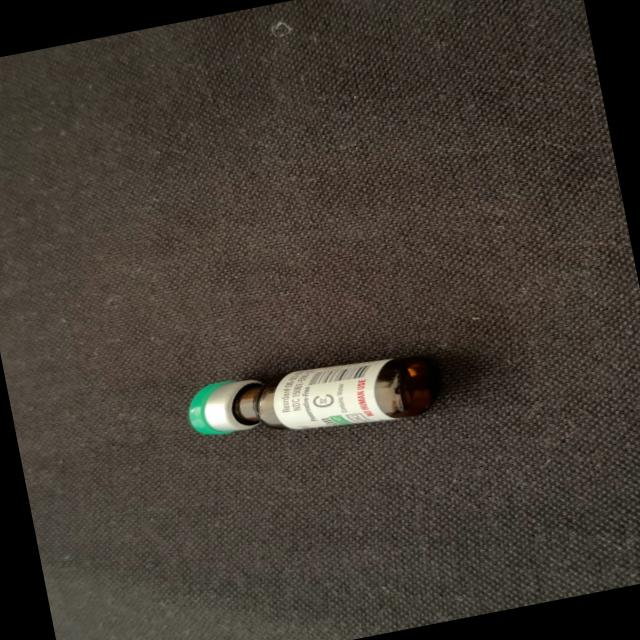midazolm: (188, 341, 439, 456)
